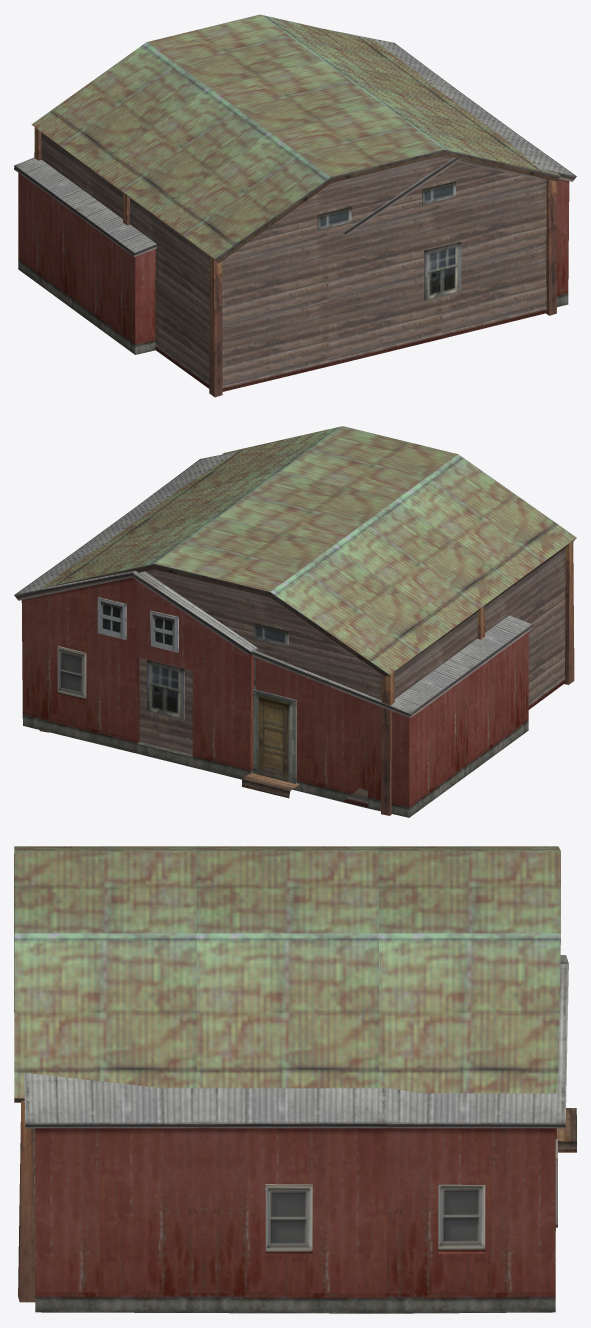
File: outpost.glb
The picture shows the model from 3 angles, top to bottom: view 1: azimuth 30°, elevation 25°; view 2: azimuth 150°, elevation 25°; view 3: azimuth 270°, elevation 25°; orthographic projection. The views are drawn at different scales.
Parts seen in each view (by area): view 1: house02_elements_0, barn01_add_elements_0, barn01_elements_0; view 2: house02_elements_0, barn01_elements_0, barn01_add_elements_0; view 3: house02_elements_0, barn01_elements_0.
Boxes of the visible parts, x1,y1,x2,y2 form: house02_elements_0: (31, 14, 560, 397); barn01_add_elements_0: (14, 157, 156, 354); barn01_elements_0: (326, 29, 576, 306); house02_elements_0: (39, 426, 576, 815); barn01_elements_0: (14, 451, 257, 779); barn01_add_elements_0: (252, 615, 532, 817); house02_elements_0: (14, 846, 576, 1302); barn01_elements_0: (24, 955, 568, 1313).
Size of the model in its own units: 2.12 by 1.02 by 1.81.
Materials: 1 (1 with a texture image).
